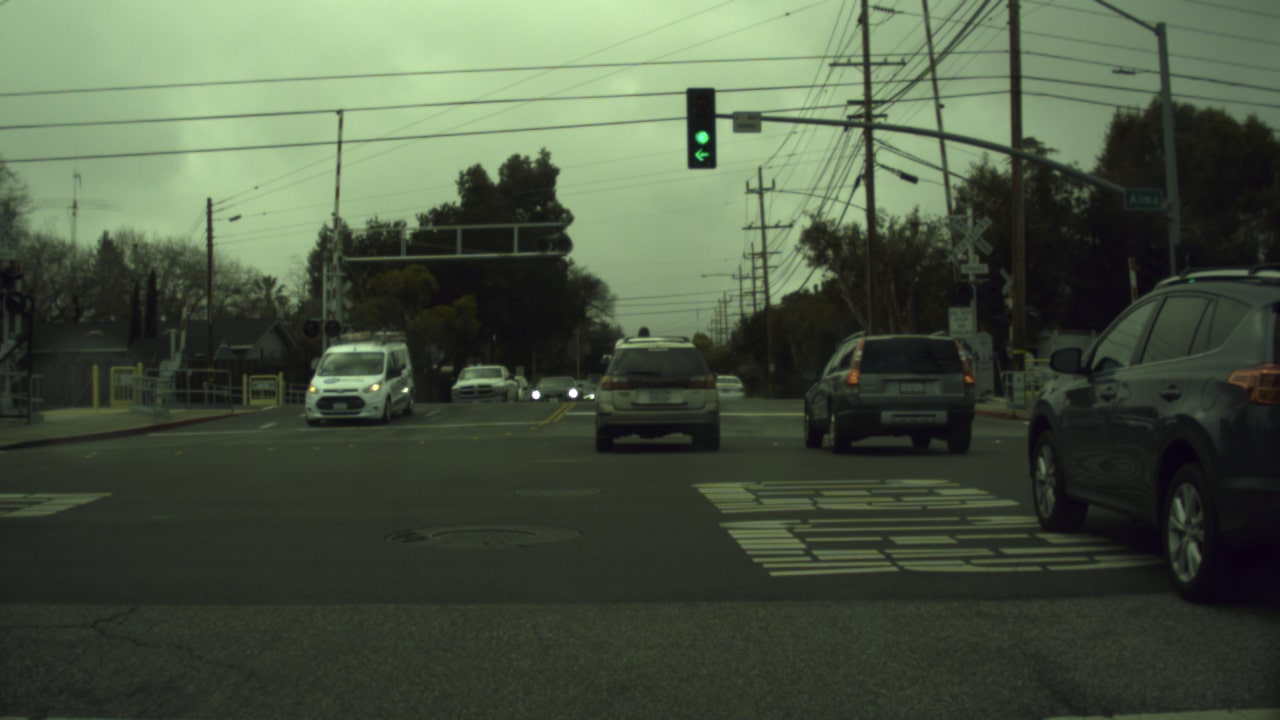signal: (686, 86, 717, 169)
